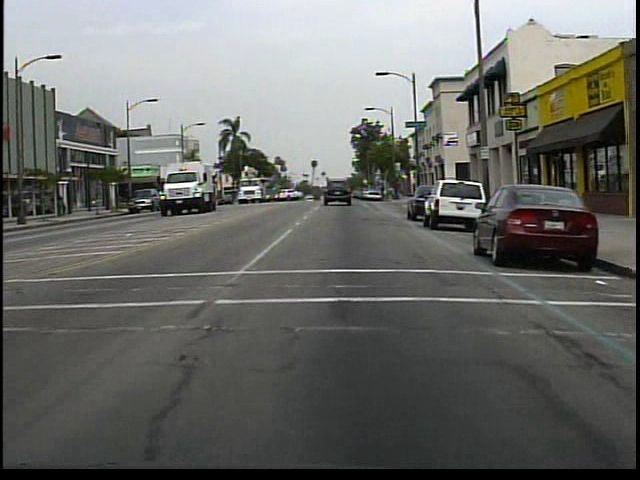person: (60, 193, 69, 218)
